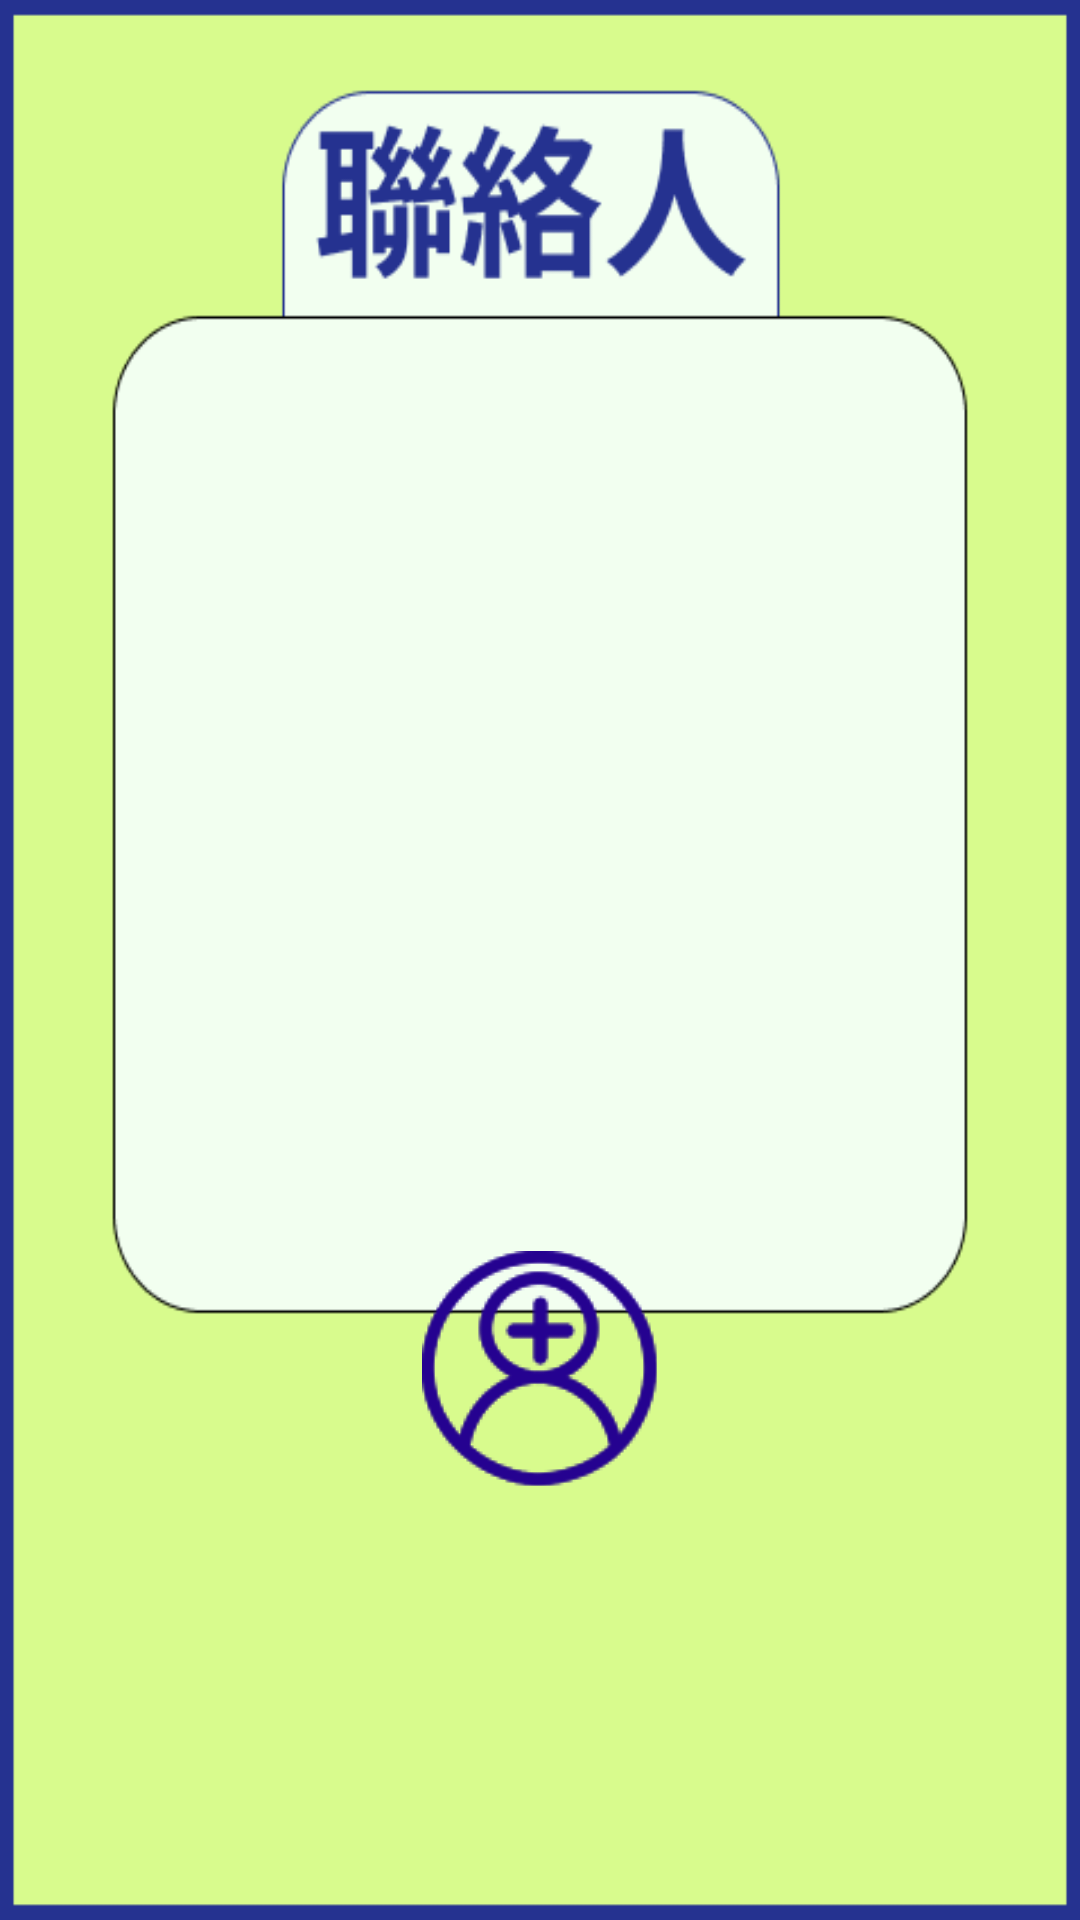

Point at icon controls on the screen. Image size 1080px×1920px, points as (x,y).
addfriend: (540,1368)
